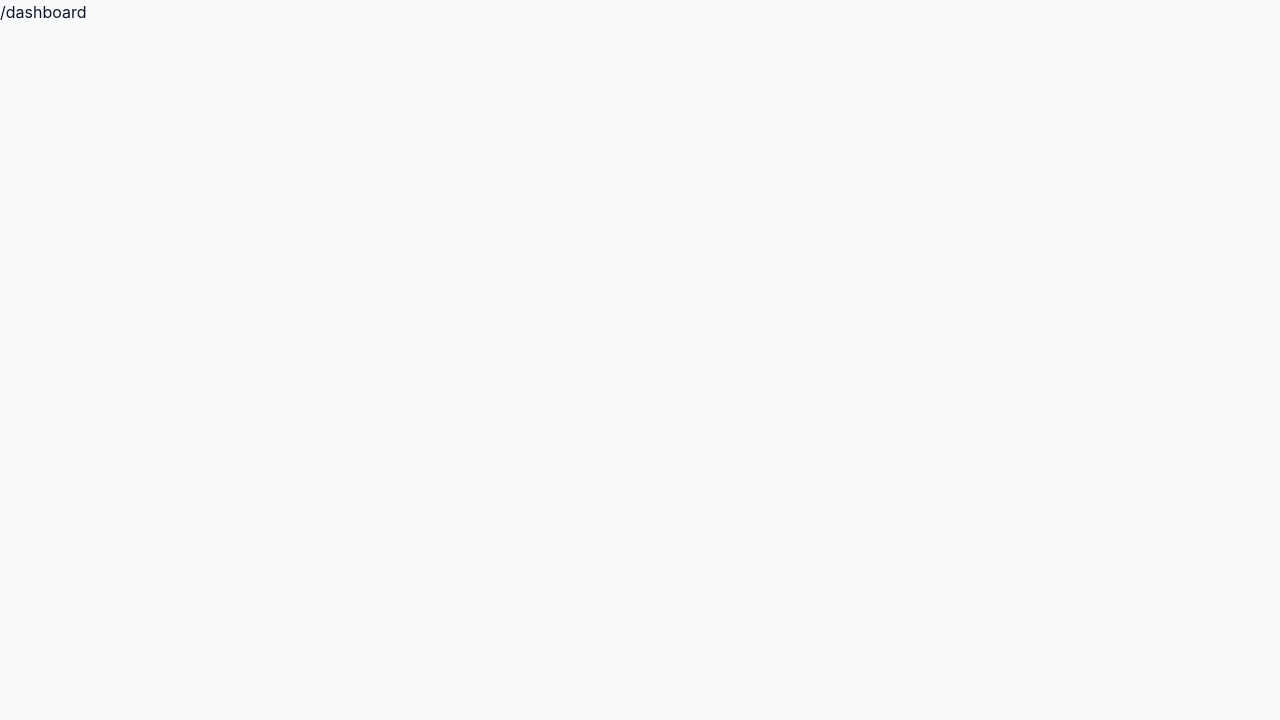
Test: CommandPalette › keyboard nav walks across section boundaries and Enter opens the active result
This screenshot has width=1280, height=720.
Press k
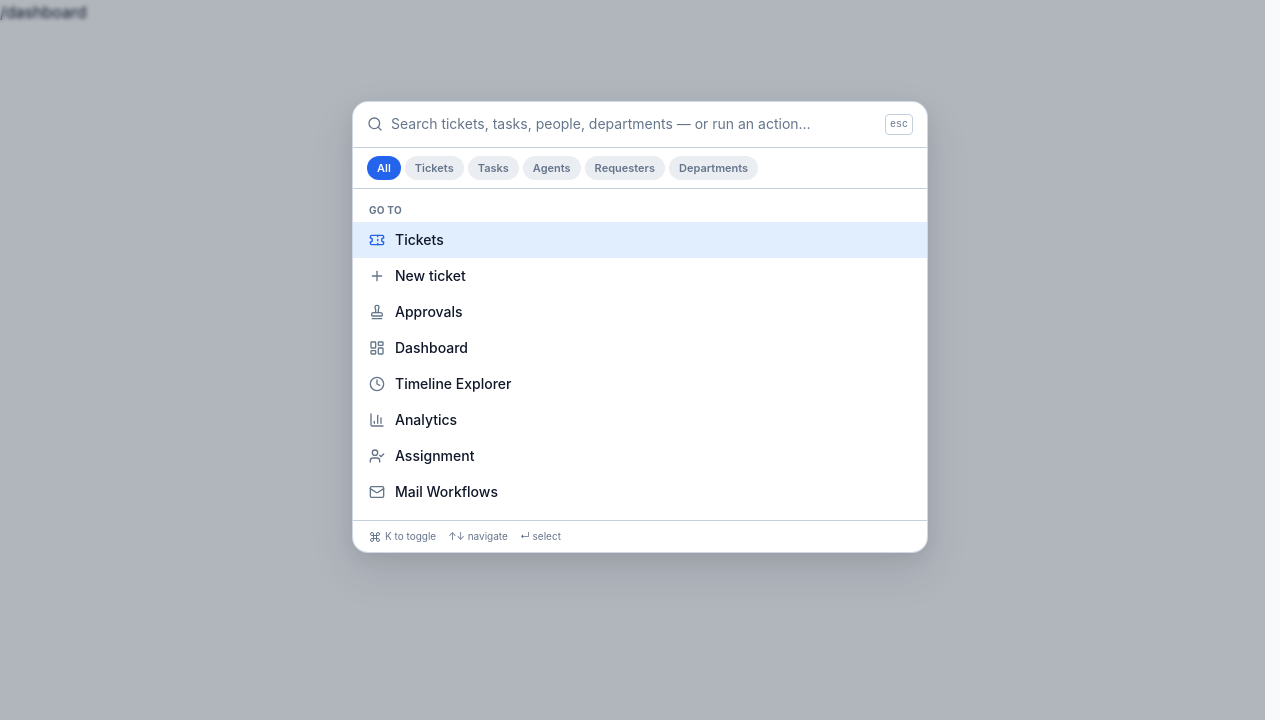
Click the button "Tickets": (434, 168) [405,156,464,180]
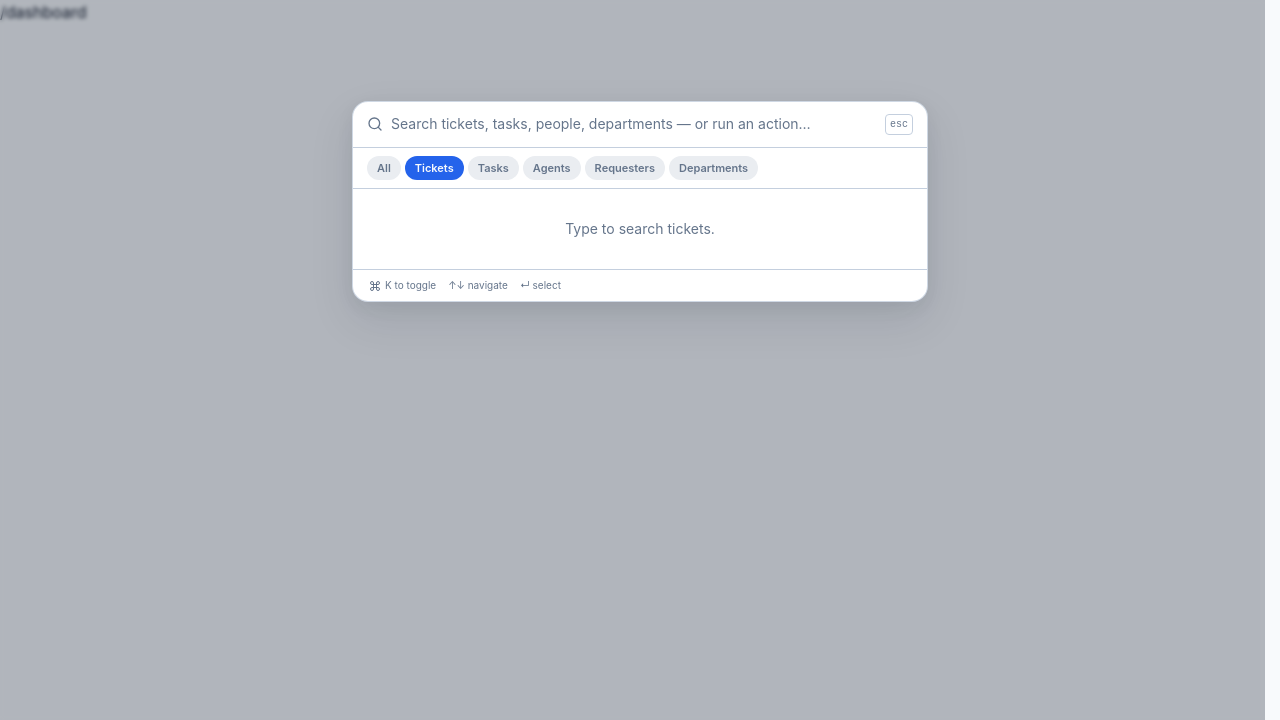
Replace the text in the dropdown with "printer": (634, 124) [391,114,877,134]
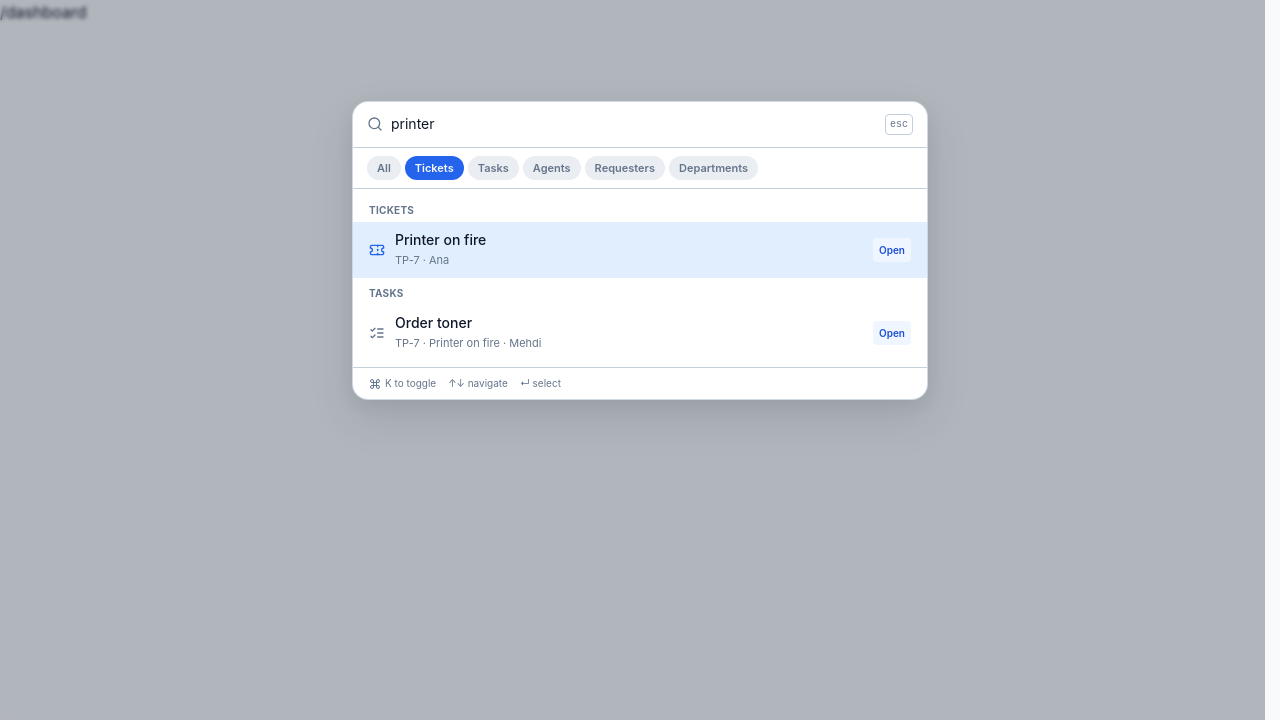
Press ArrowDown in the dropdown, box [391,114,877,134]
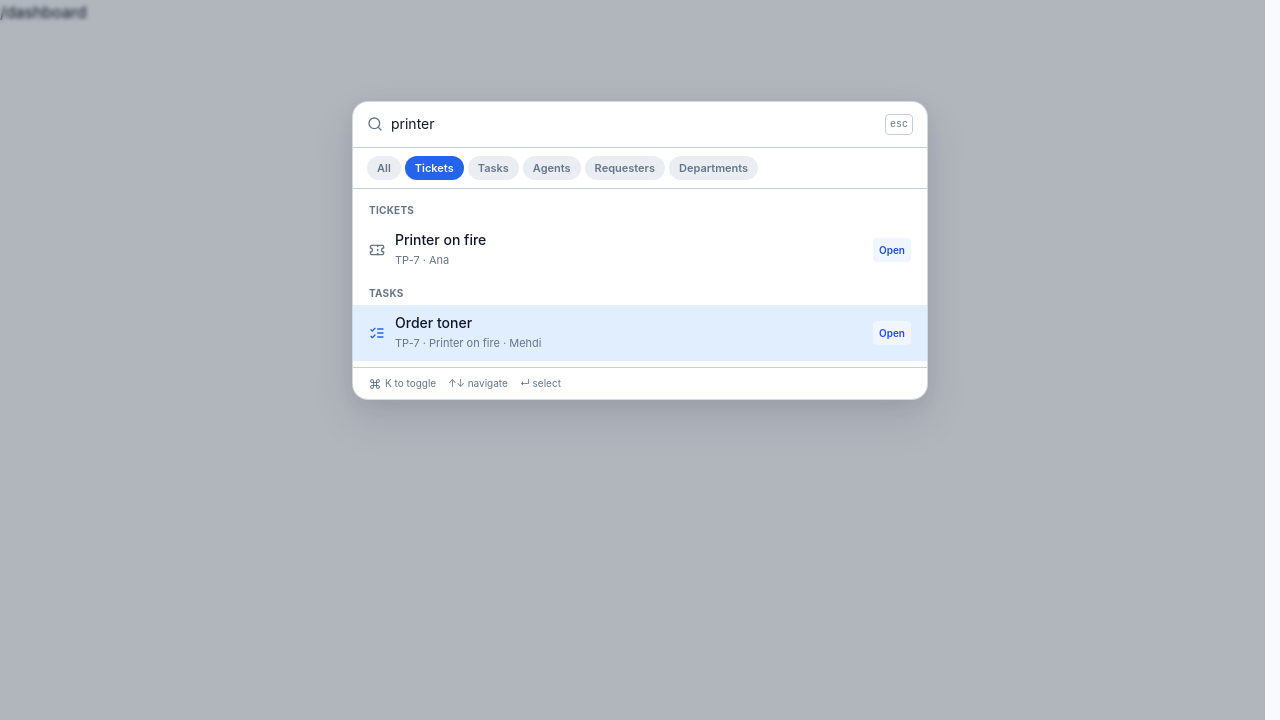
Now the option "Order toner TP-7 · Printer on fire · Mehdi Open" is selected, box [353,305,927,361]
Press Enter in the dropdown, box [391,114,877,134]
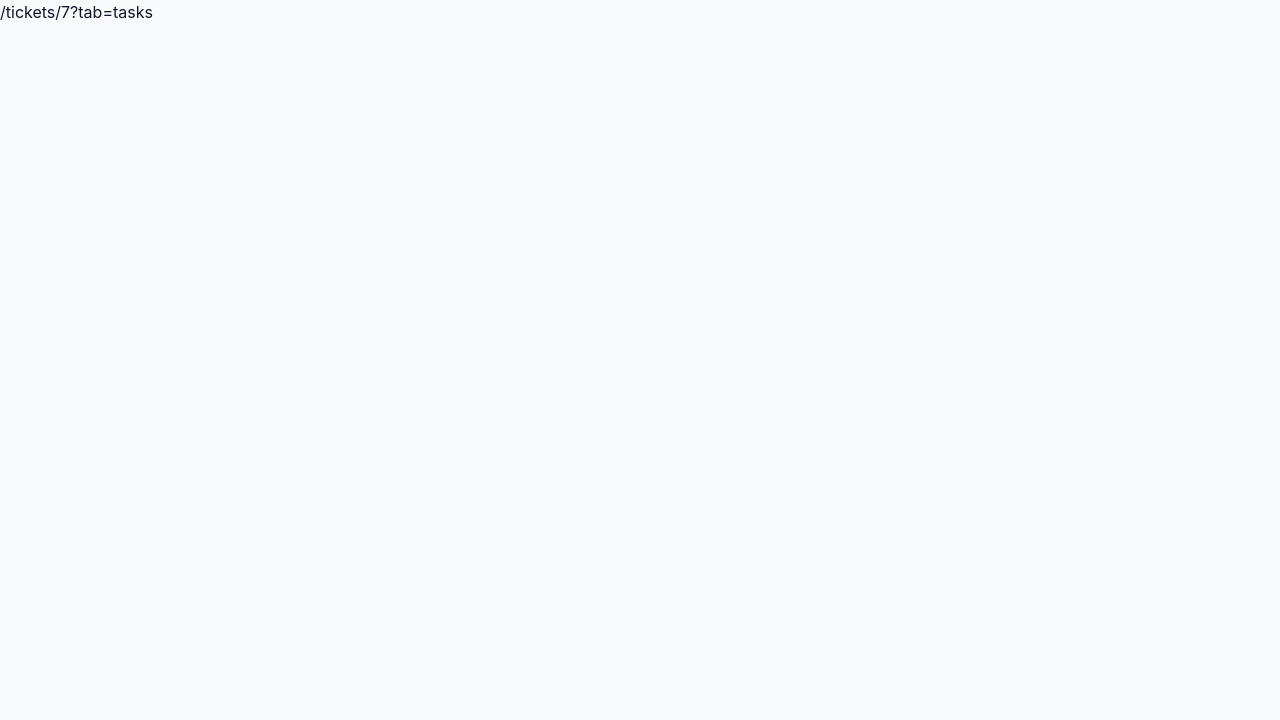
Now the text with test id "location" reads "/tickets/7?tab=tasks", box [0,2,153,22]
